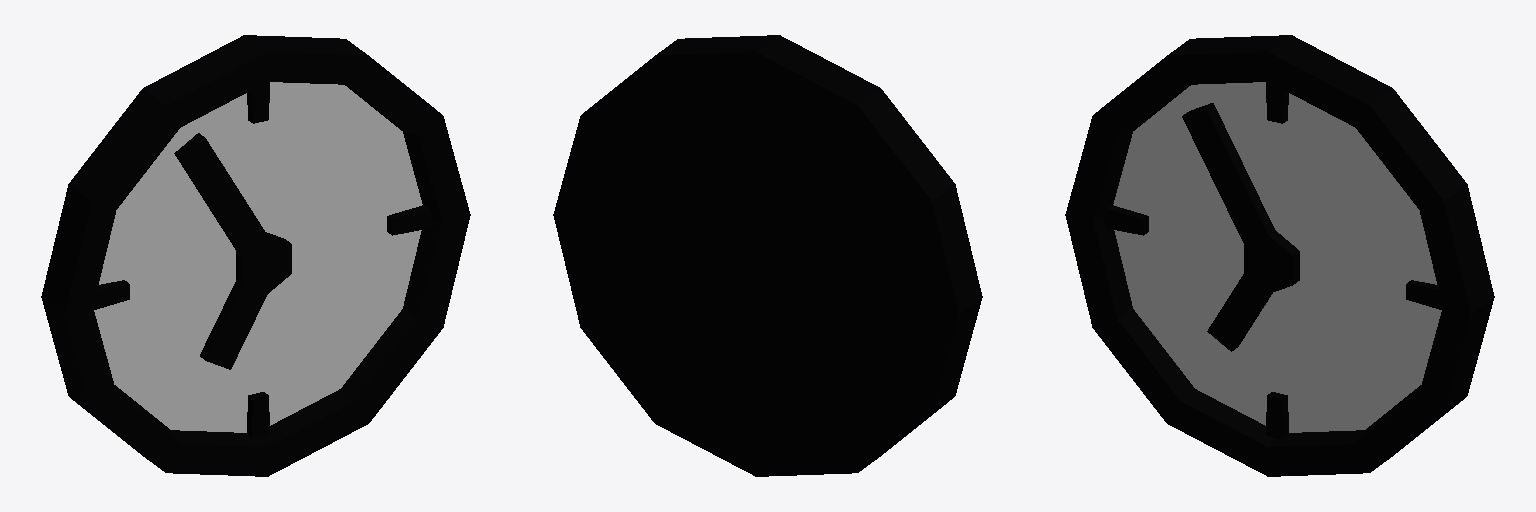
Rendered from clock.obj.
The picture shows the model from 3 angles: view 1: azimuth 30°, elevation 25°; view 2: azimuth 150°, elevation 25°; view 3: azimuth 330°, elevation 25°; orthographic projection.
Visible parts, largest first — view 1: clock-home; view 2: clock-home; view 3: clock-home.
Boxes of the visible parts, x1=… form: clock-home: x1=41, y1=35, x2=470, y2=476; clock-home: x1=553, y1=35, x2=982, y2=476; clock-home: x1=1065, y1=35, x2=1494, y2=476.
Size of the model in its own units: 0.33 by 0.33 by 0.033.